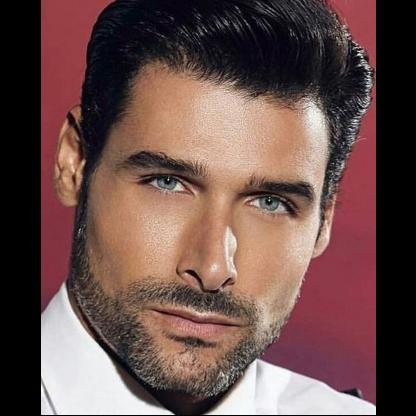Male: (52, 60, 336, 393)
